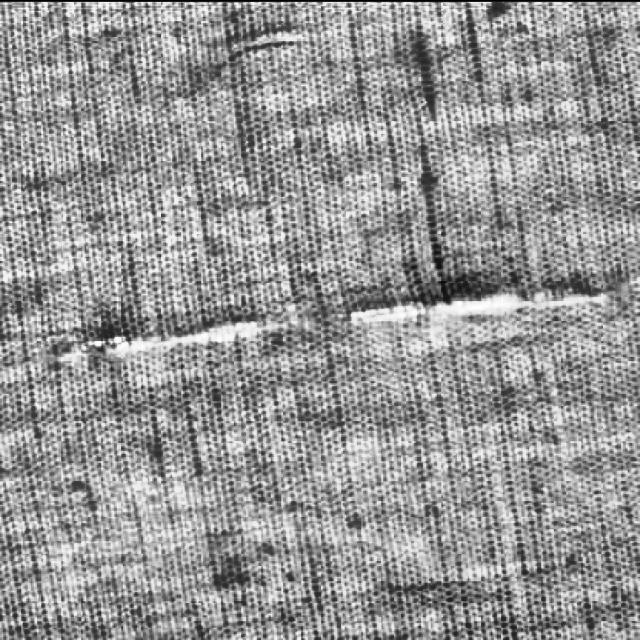thread_error: (68, 267, 621, 383)
